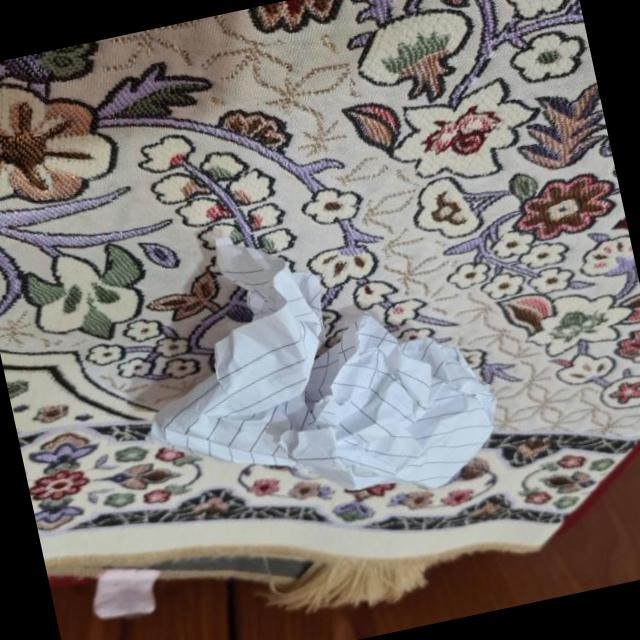cardboard paper: (154, 238, 496, 489)
